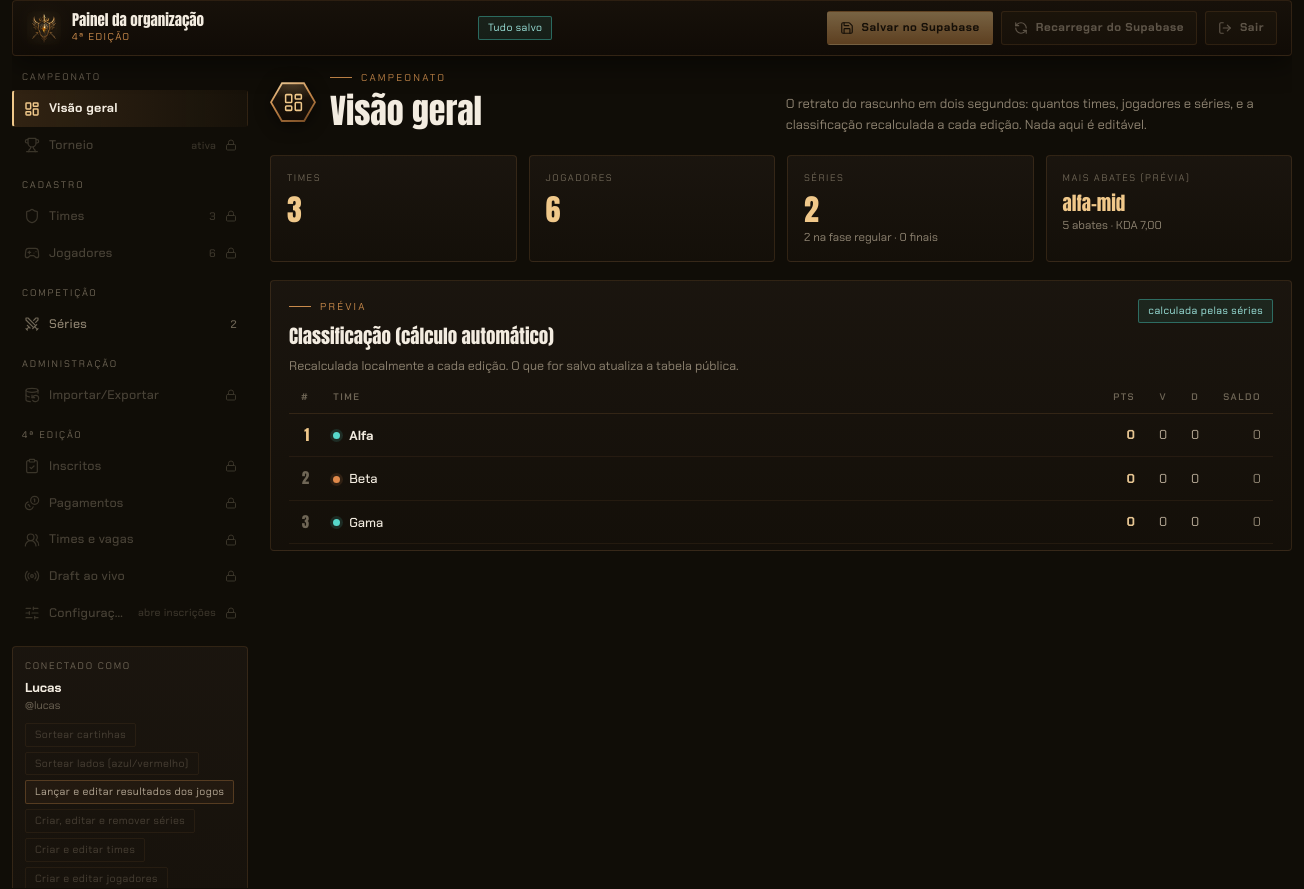
Test case: falhas de rede e de plataforma (PNL-11) › resposta sem JSON (500 da plataforma) diz o status, não o erro do parser
Click the text "Séries" below "Competição". click: (68, 324)
box: [49,316,87,332]
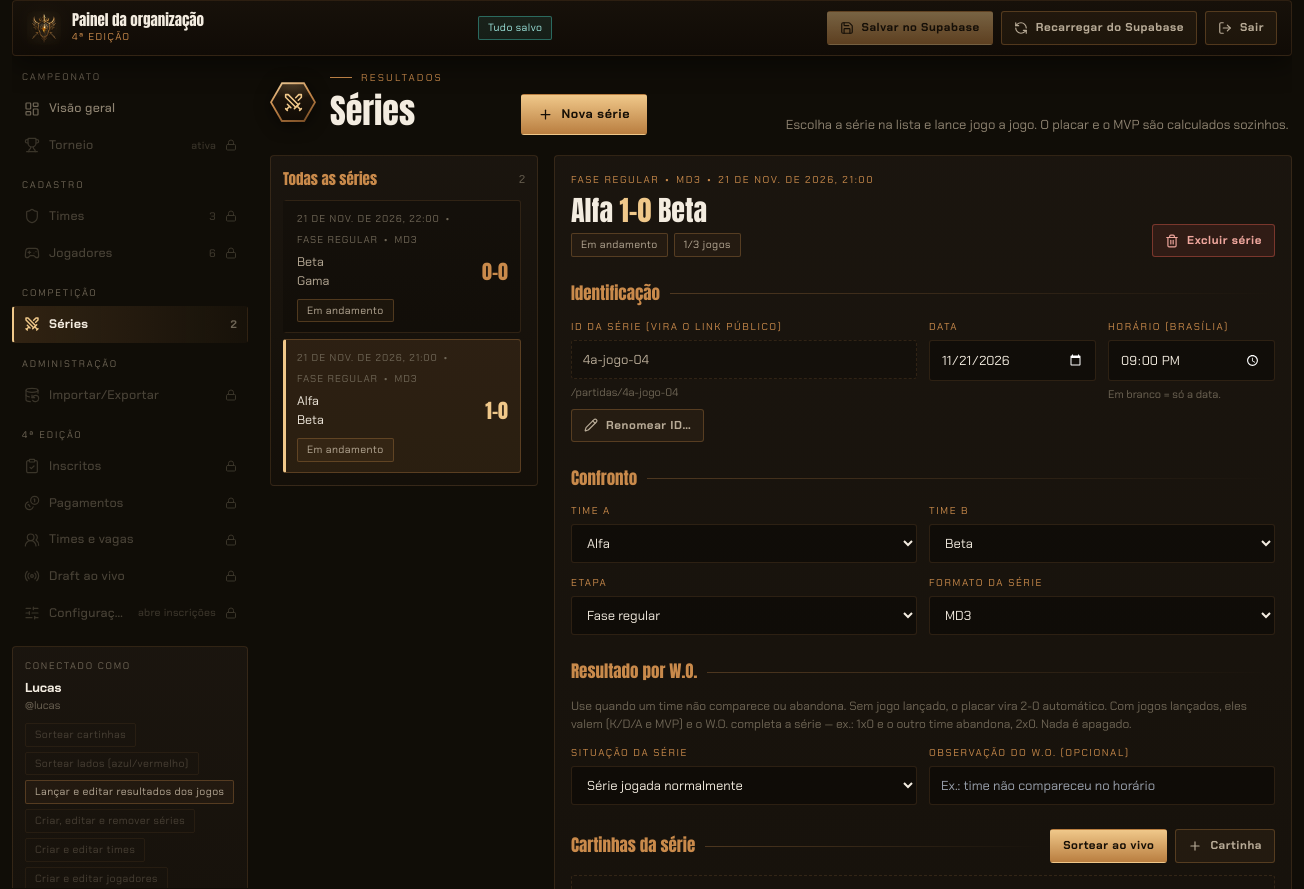
Click the button that starts with "21 de nov. de 2026, 21:00". click: (402, 406)
box: [283,339,521,473]
(page scrolled)
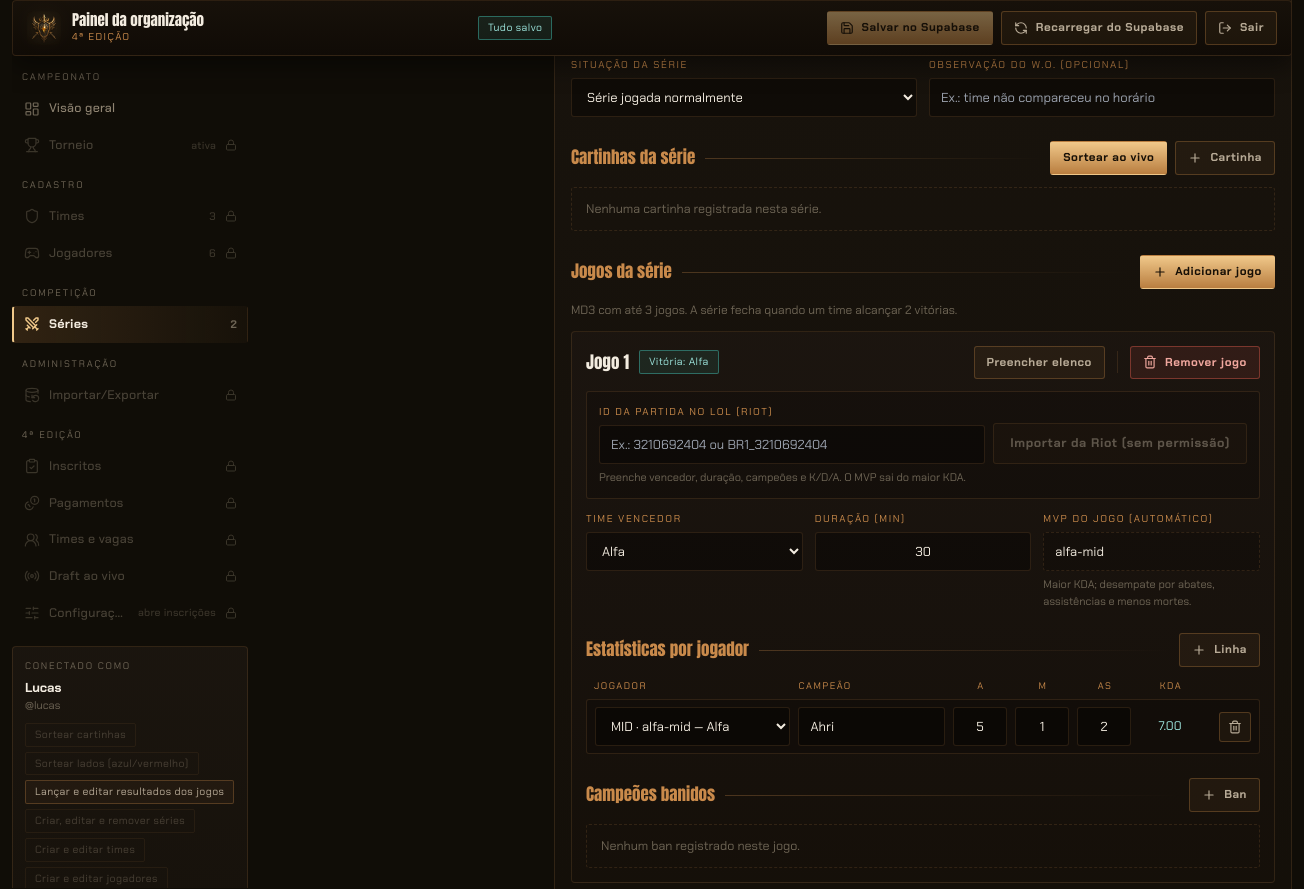
Replace the text in the field labelled "Duração (min)" with "38". click: (923, 552)
box: [815,532,1031,572]
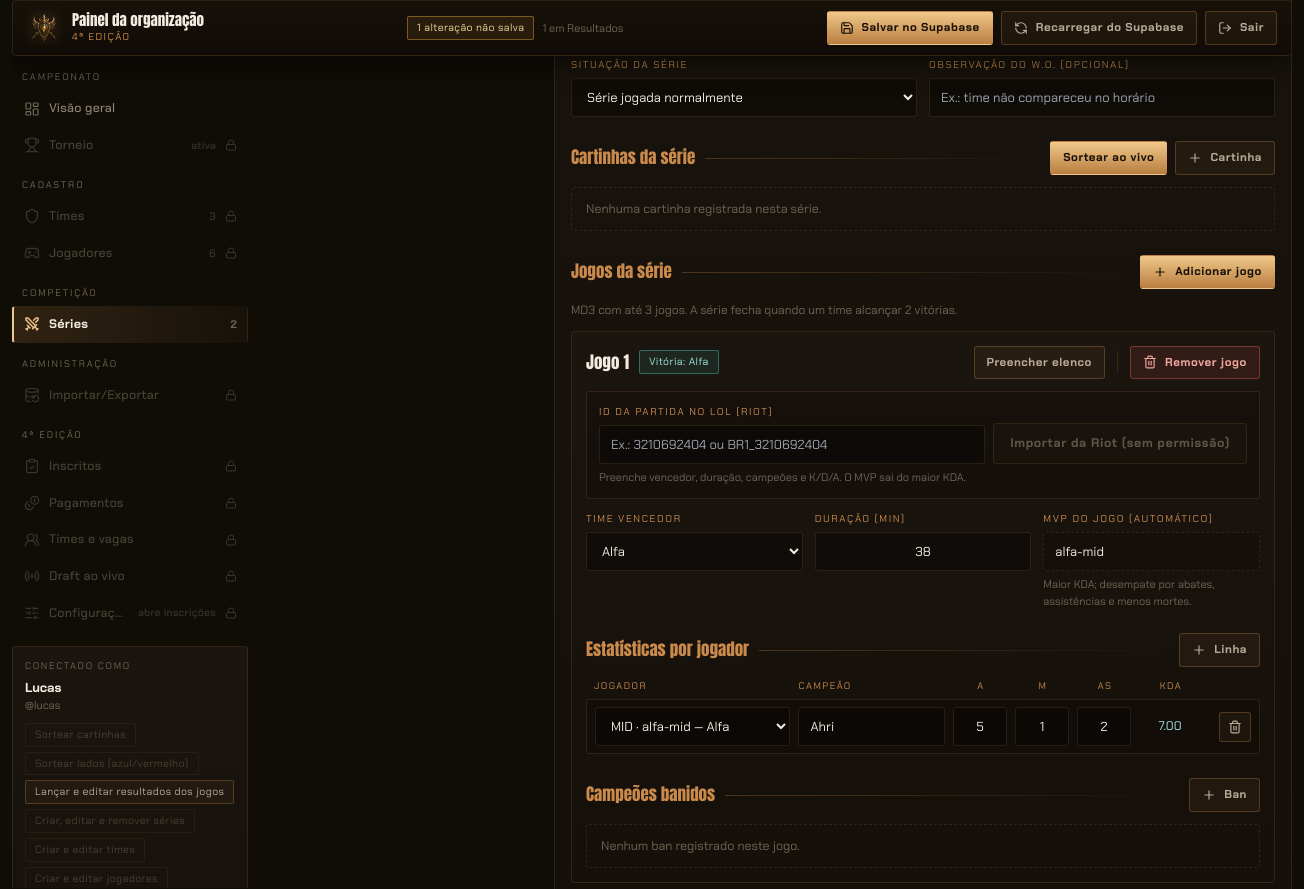
Click the button "Salvar no Supabase". click: (910, 28)
box: [827,11,993,45]
(page scrolled)
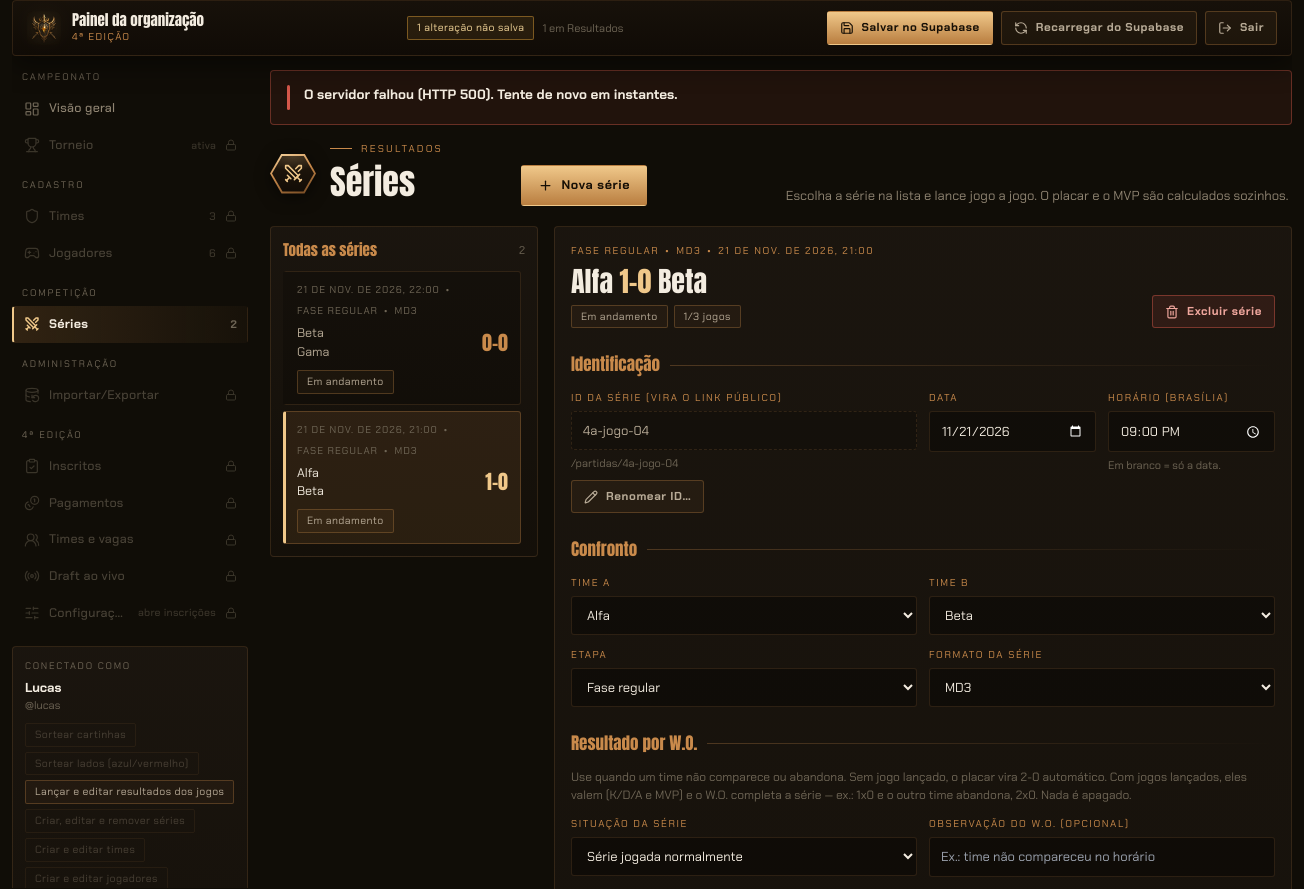
Now the text "O servidor falhou (HTTP 500). Tente de novo em instantes." is shown, box [304,86,677,103]
